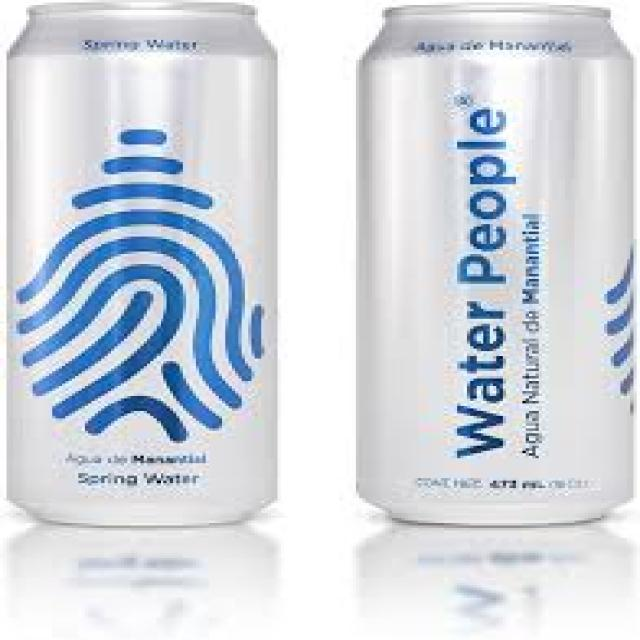Lata: (345, 2, 639, 520)
